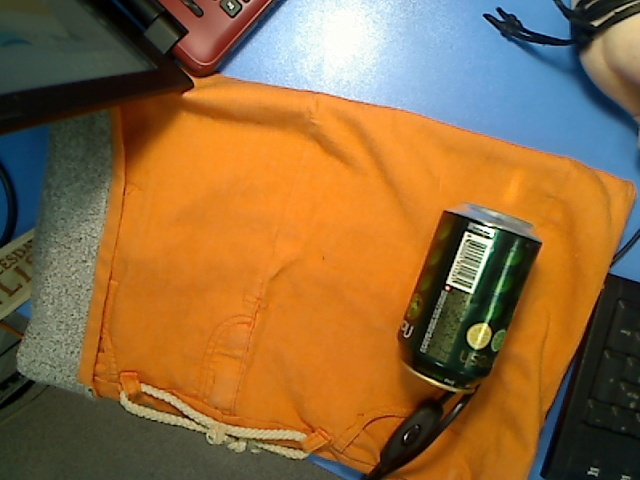can: (395, 203, 544, 397)
